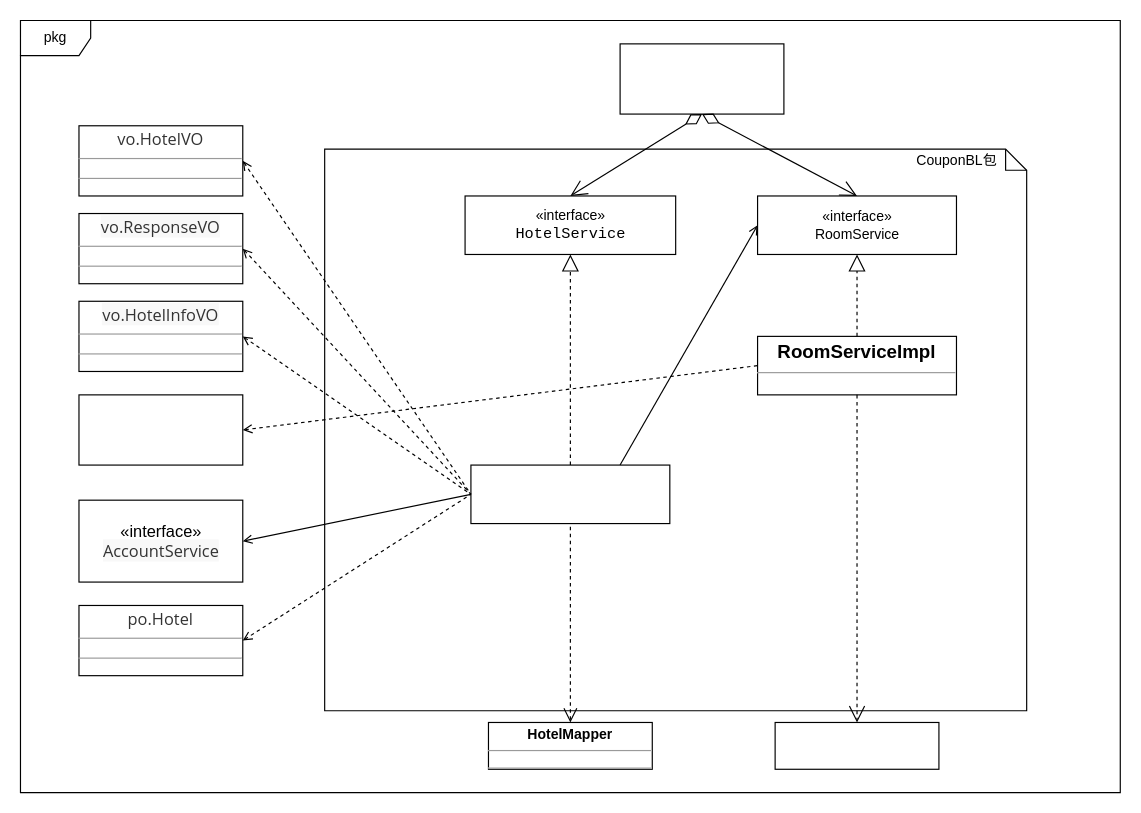
The diagram is 1141 pixels wide and 813 high, and some of its shapes have lost their labels. The centre of each missing label's shape, as x and y in pixels:
HotelController: (701,78)
HotelServiceImpl: (570,494)
po.HotelRoom: (160,429)
RoomMapper: (856,745)
